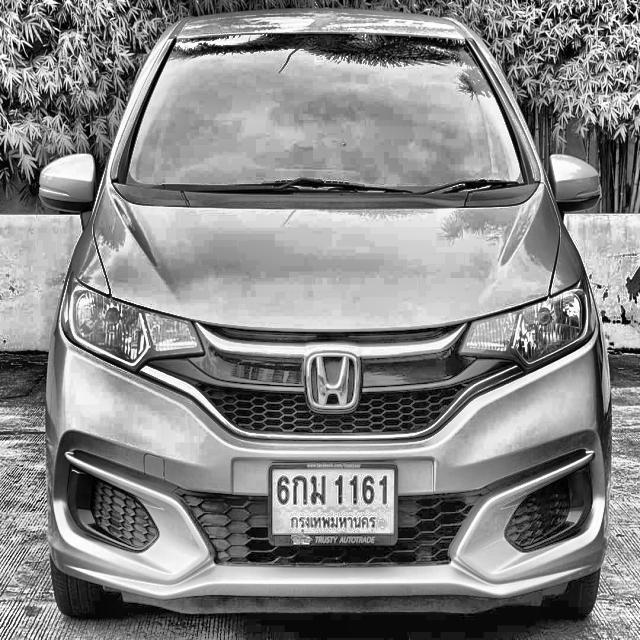license-plate: (267, 461, 400, 547)
